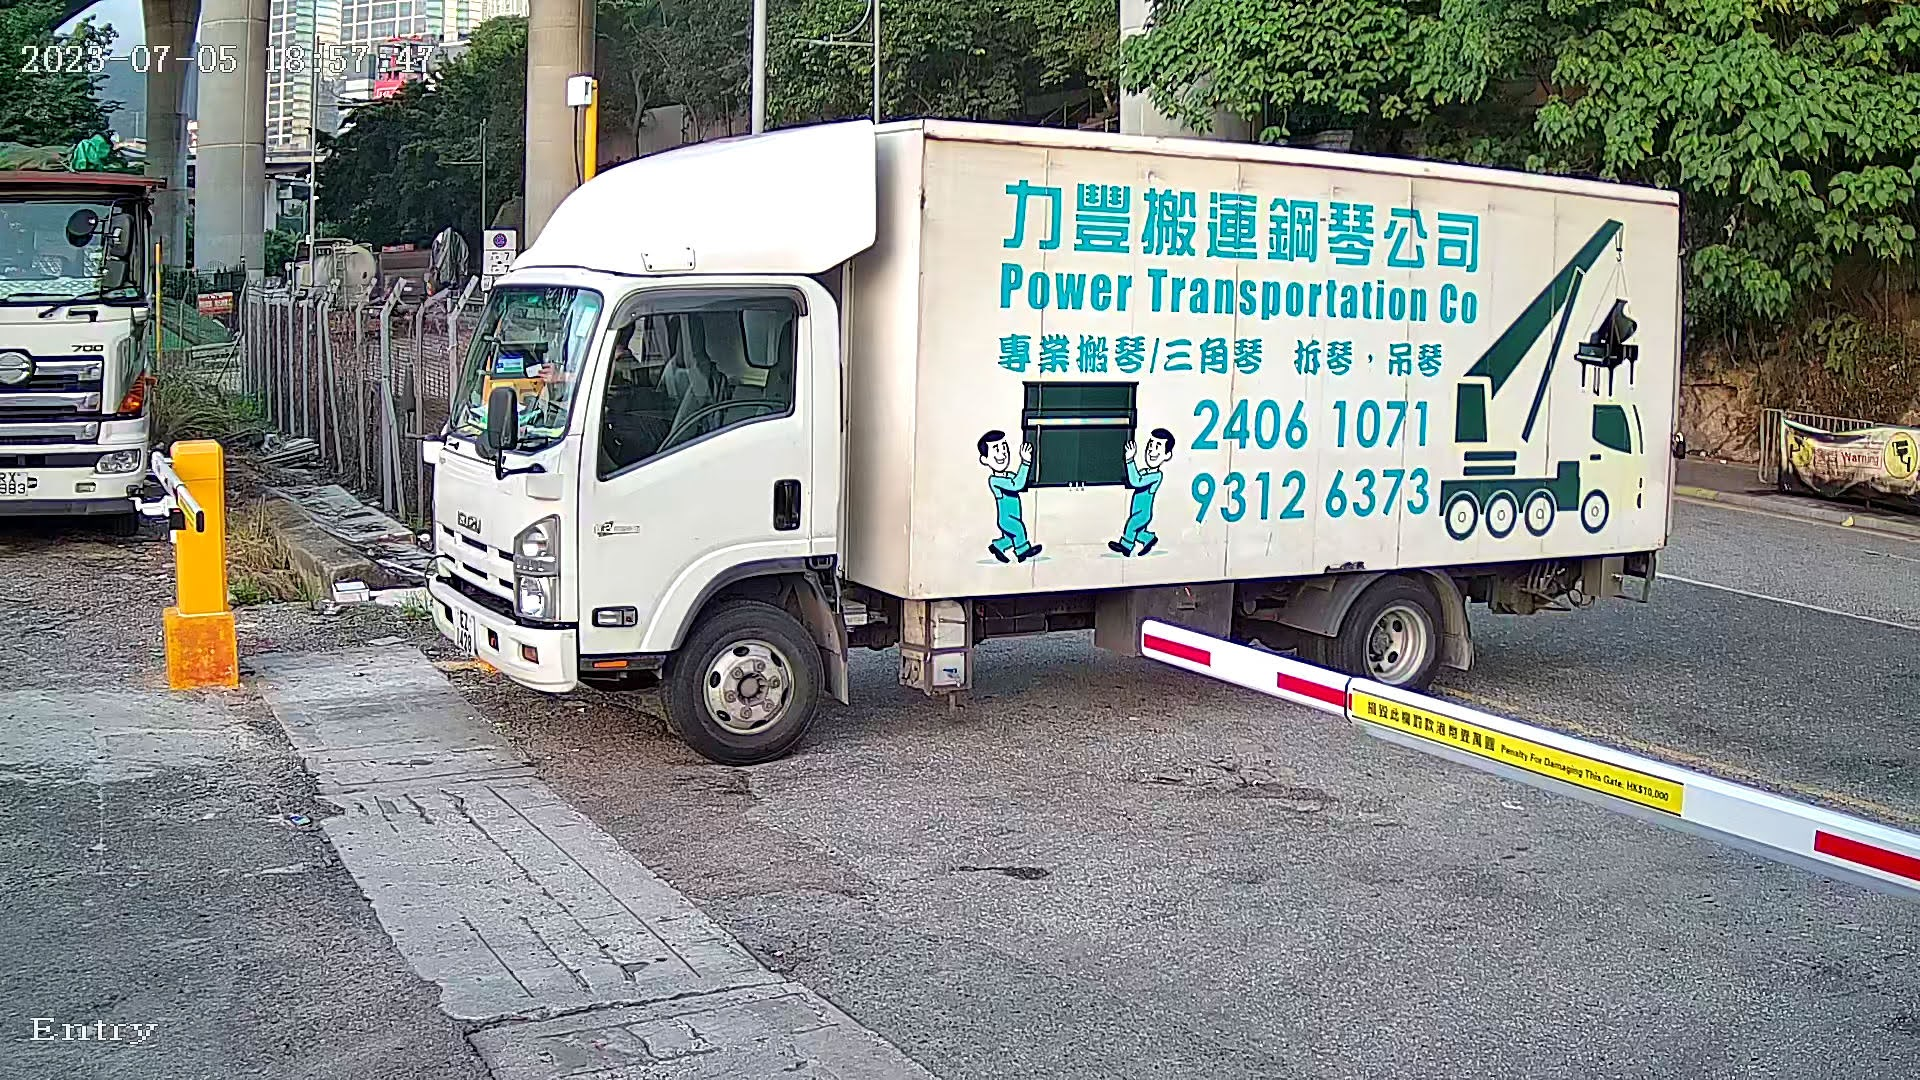truck_small: (371, 66, 1720, 793)
